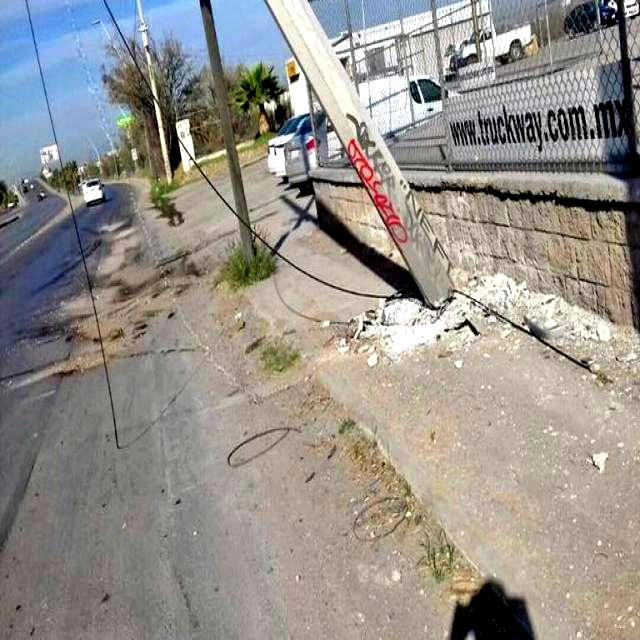Broken Pole: (261, 1, 455, 312)
